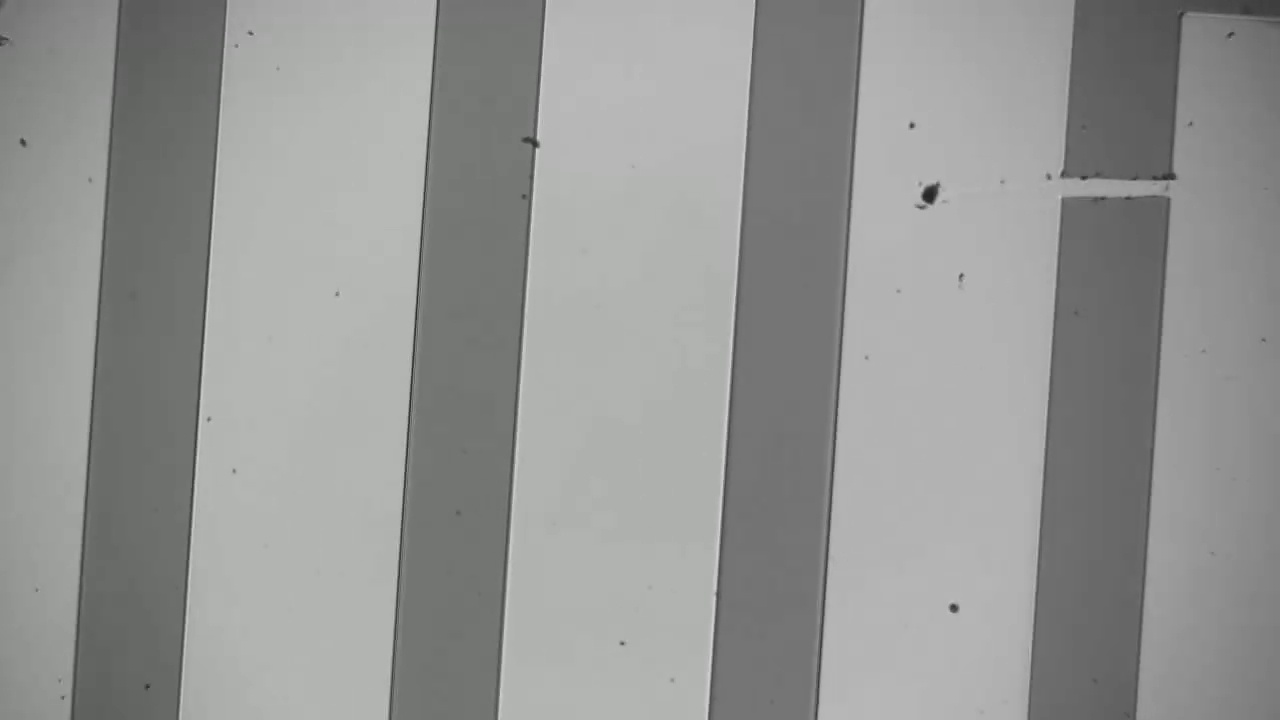Short_circuit: (1013, 137, 1200, 222)
